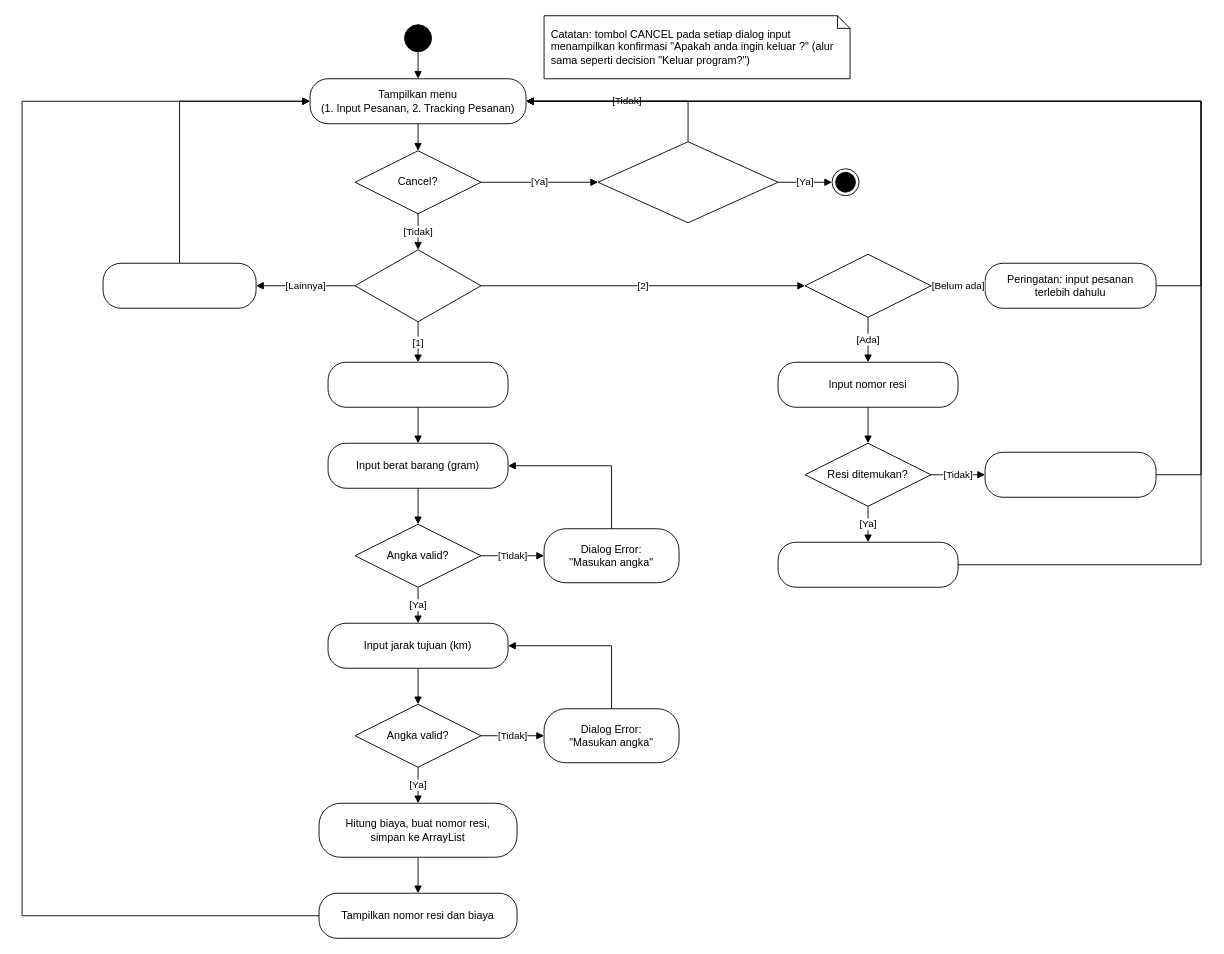
This 1224x954 diagram has some shape labels left out. The centre of each missing label's shape, as x and y in pixels:
Dialog Error: "Data tidak ditemukan": [1070,474]
Dialog Error: "Menu tidak valid": [179,285]
Input nama barang: [417,384]
Keluar program? (Apakah anda ingin keluar ?): [687,182]
Pilihan menu?: [417,285]
Sudah ada pesanan?: [867,285]
Tampilkan data pesanan: [867,564]
